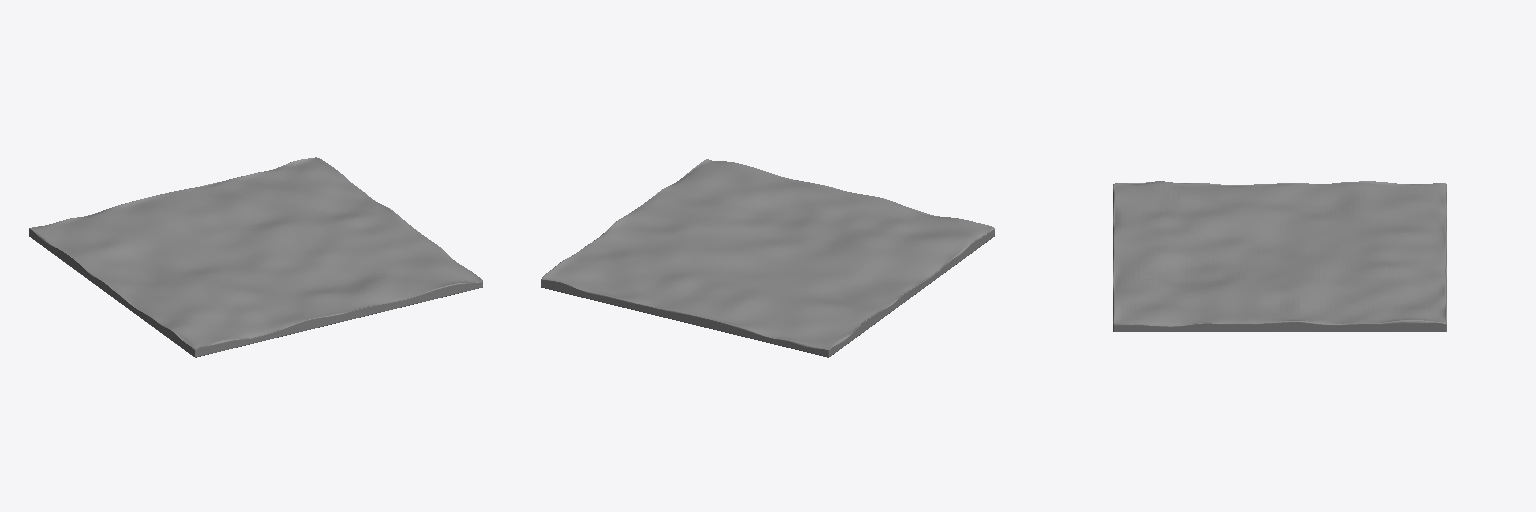
3 renders of one model, left to right at view 1: azimuth 30°, elevation 25°; view 2: azimuth 150°, elevation 25°; view 3: azimuth 270°, elevation 25°, orthographic.
Parts seen in each view (by area): view 1: 10450_Rectangular_Grass_Patch_v1; view 2: 10450_Rectangular_Grass_Patch_v1; view 3: 10450_Rectangular_Grass_Patch_v1.
Boxes of the visible parts, x1,y1,x2,y2 form: 10450_Rectangular_Grass_Patch_v1: [29, 157, 482, 357]; 10450_Rectangular_Grass_Patch_v1: [541, 159, 994, 357]; 10450_Rectangular_Grass_Patch_v1: [1113, 181, 1446, 331].
Size of the model in its own units: 300 by 11.78 by 300.